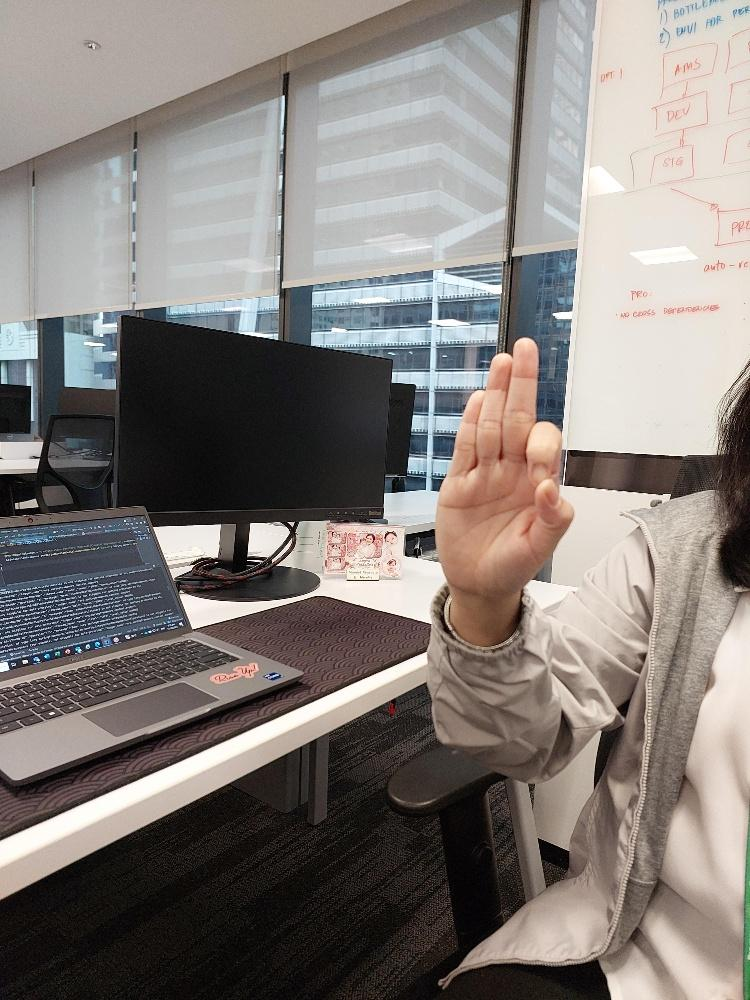f: (435, 335, 574, 593)
